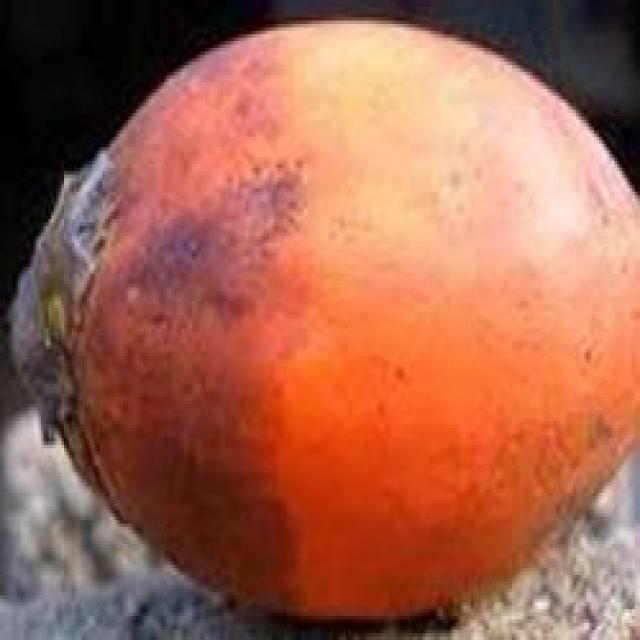good: (8, 21, 637, 633)
